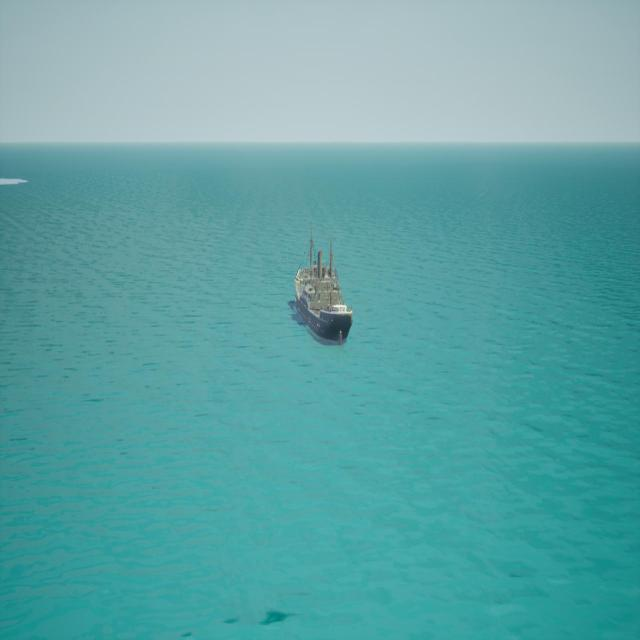fishing ship: (294, 229, 353, 348)
